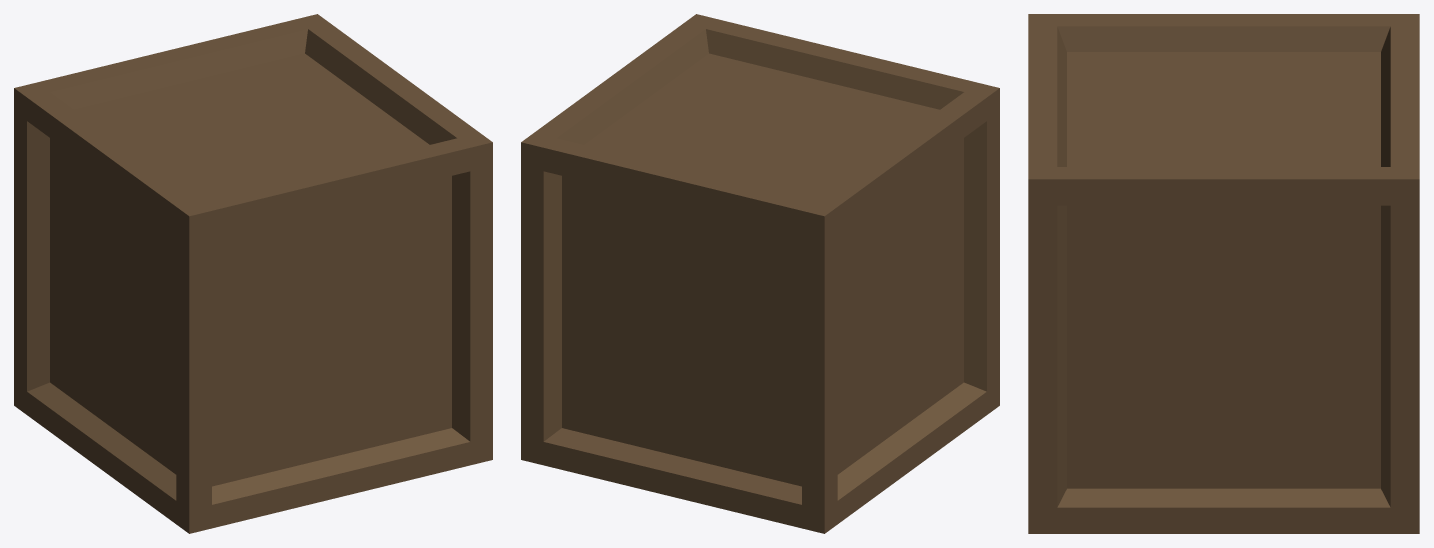
The picture shows the model from 3 angles, left to right: view 1: azimuth 30°, elevation 25°; view 2: azimuth 150°, elevation 25°; view 3: azimuth 270°, elevation 25°; orthographic projection. The views are drawn at different scales.
Parts seen in each view (by area): view 1: wood box; view 2: wood box; view 3: wood box.
Part boxes in pixels (left/top/right/bottom): wood box: left=14, top=14, right=492, bottom=533; wood box: left=521, top=14, right=999, bottom=533; wood box: left=1028, top=14, right=1419, bottom=533.
Size of the model in its own units: 200 by 200 by 200.
